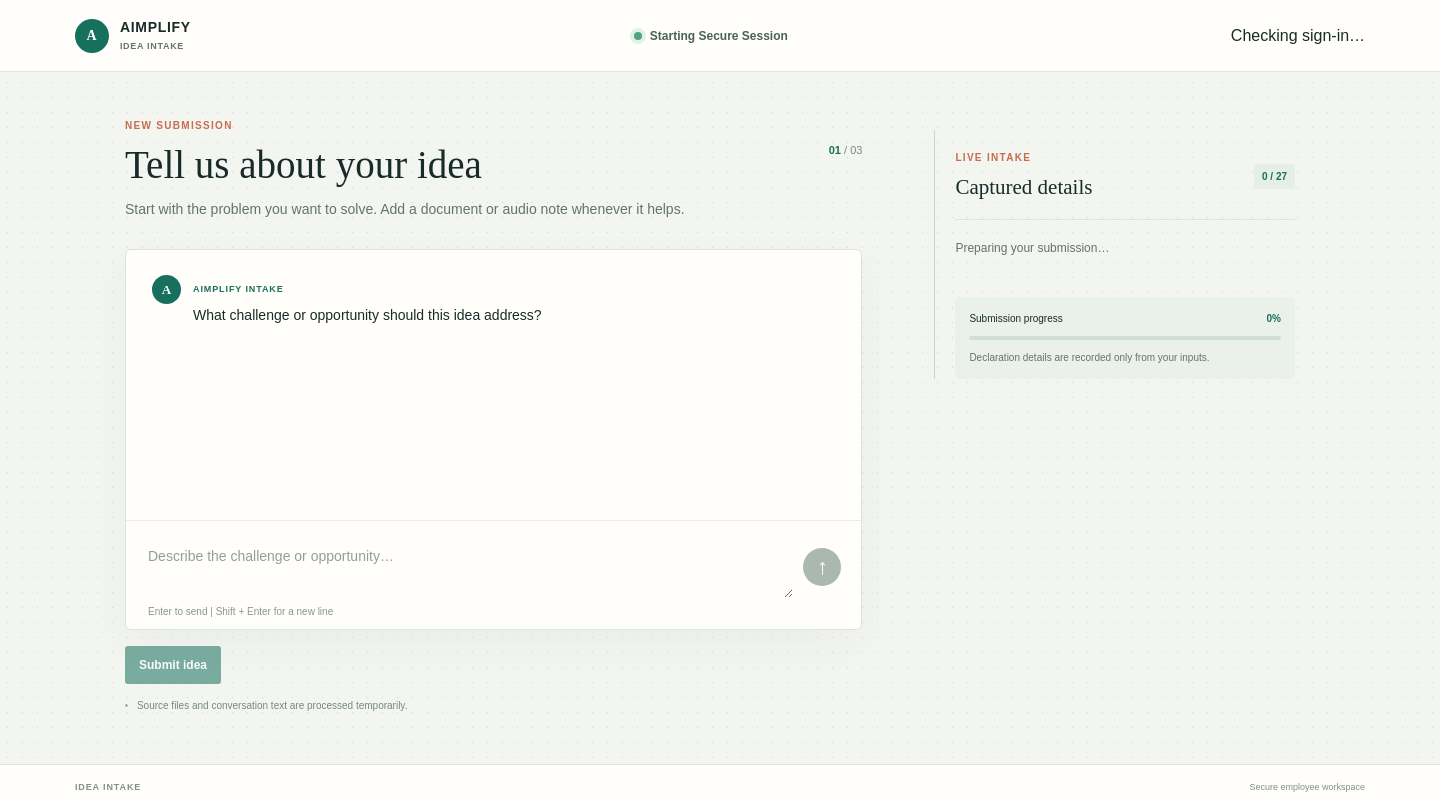
Test: safety notices › dismisses the inline denial without resetting the conversation
Type "A qualitative request." into the text box named "message" at (469, 567), box [144,536,793,598]
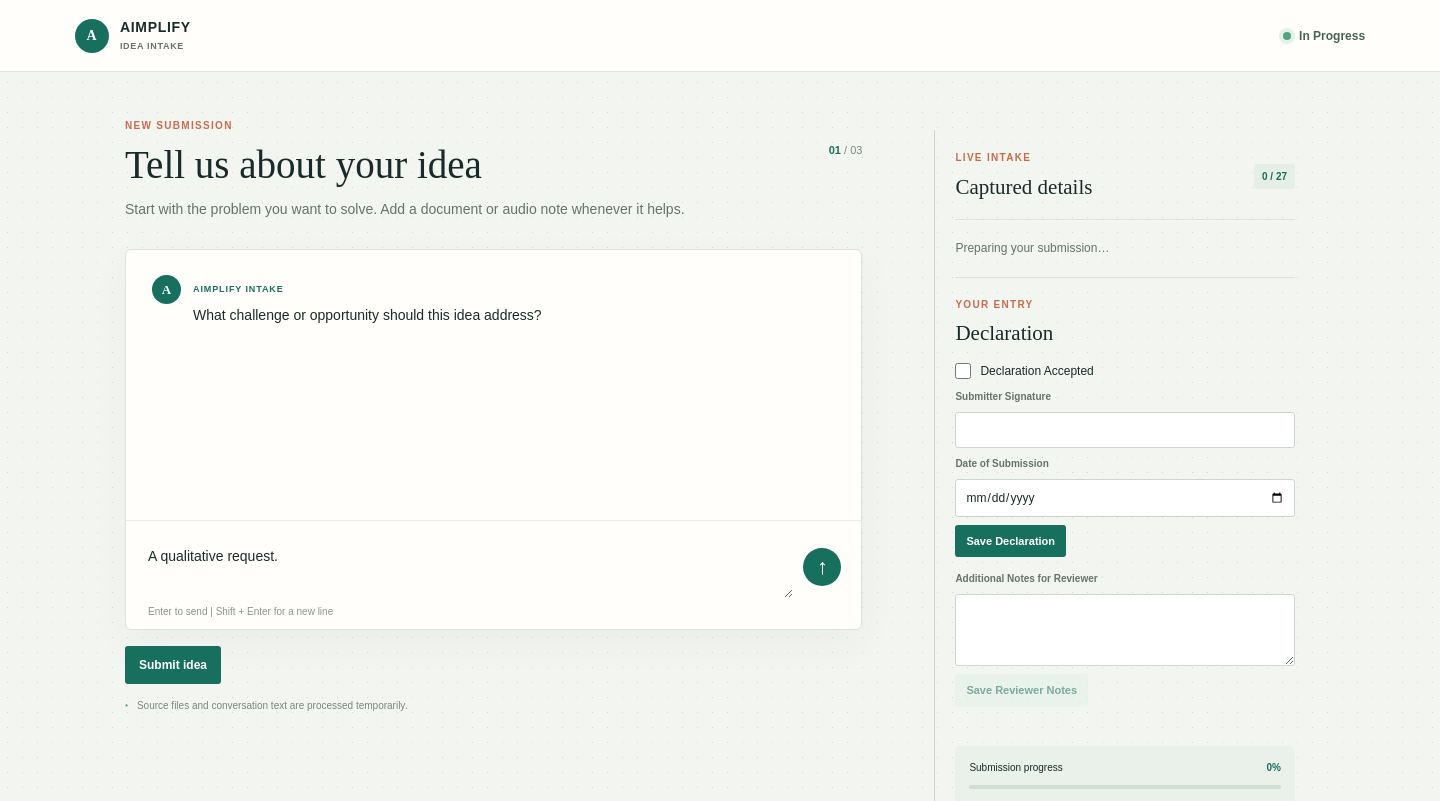
Click the button named "send" at (822, 567), box [803,548,841,586]
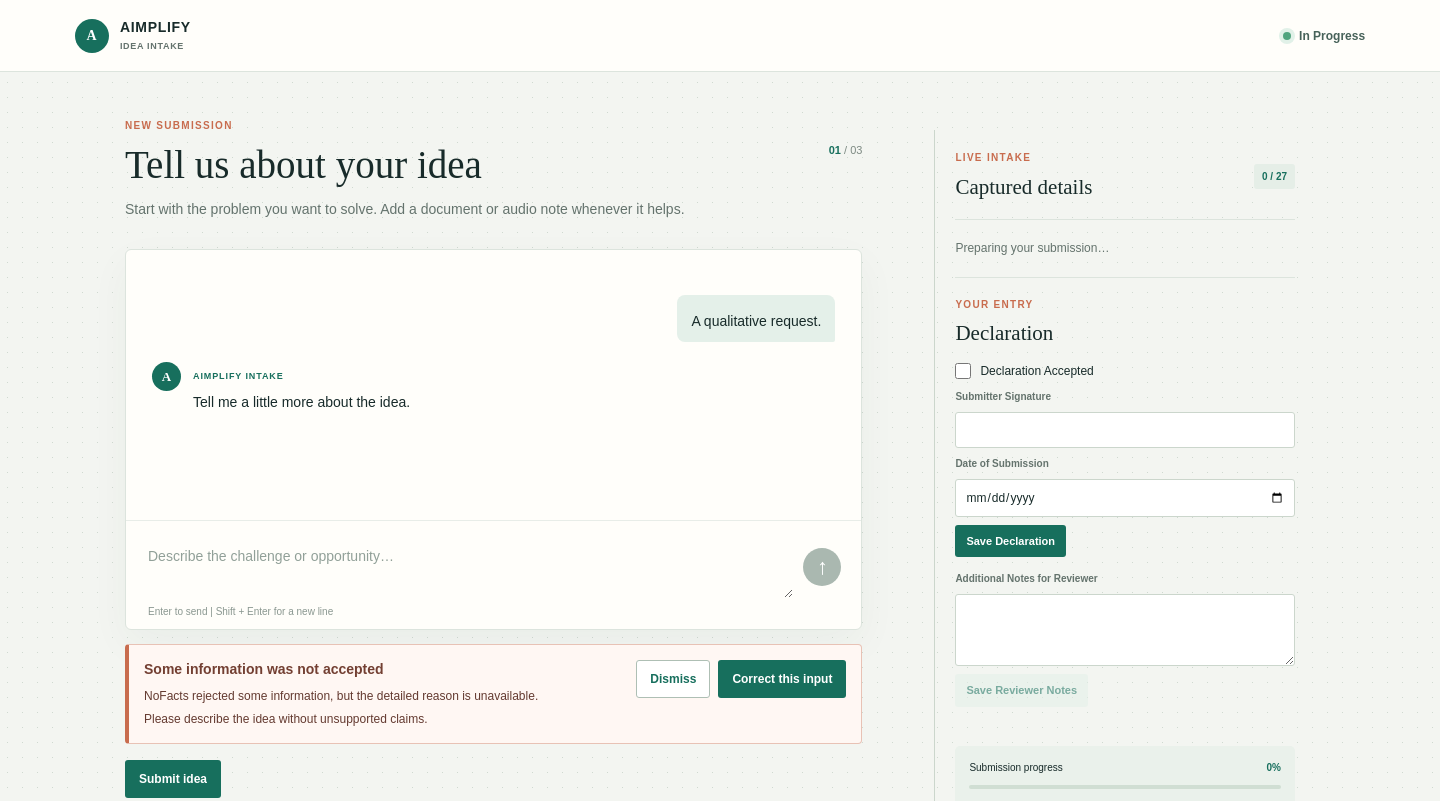
Now the message is shown, box [125,644,862,744]
Click the button "Dismiss" at (673, 679), box [636,660,710,698]
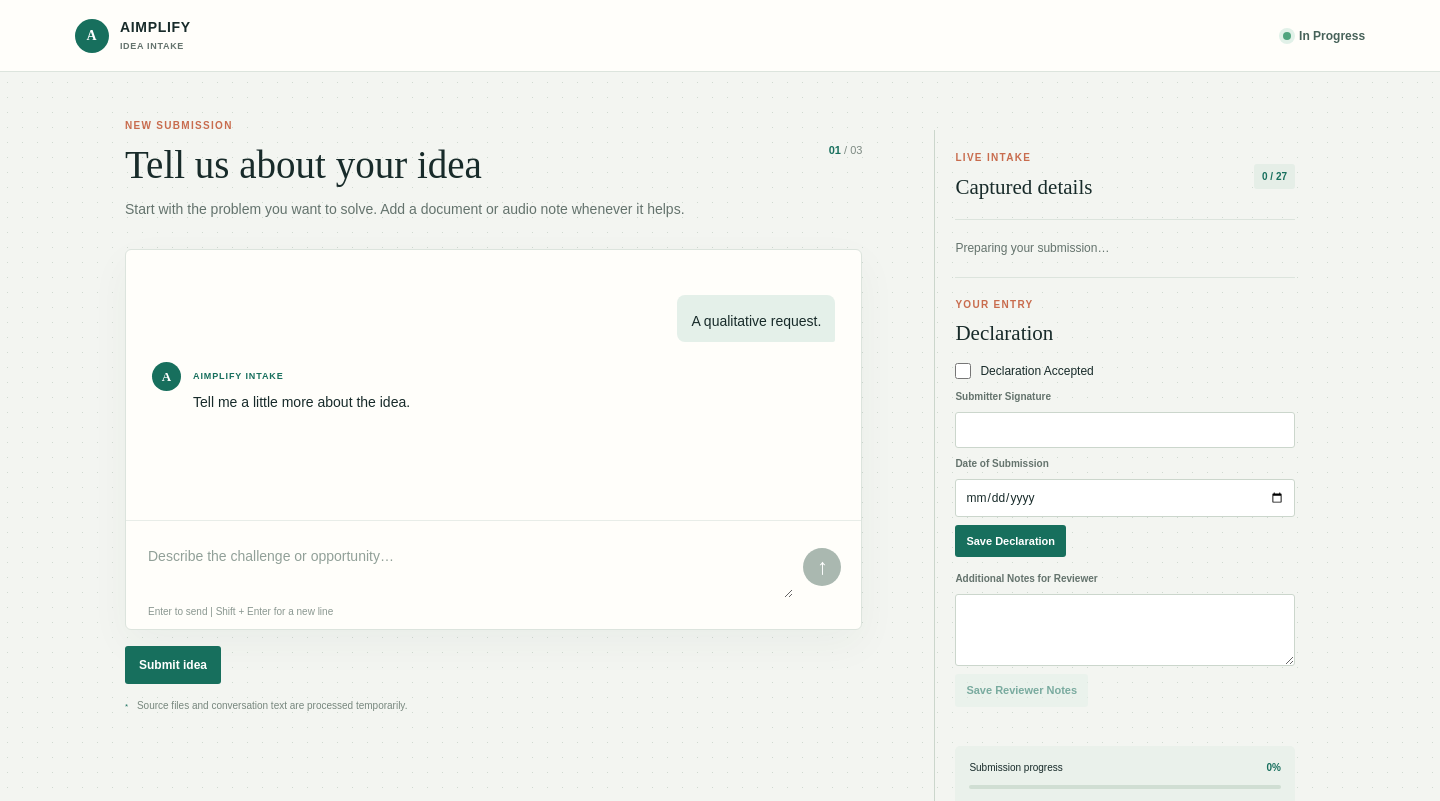
Now the text box named "message" is enabled, box [144,536,793,598]
Now the message is gone
